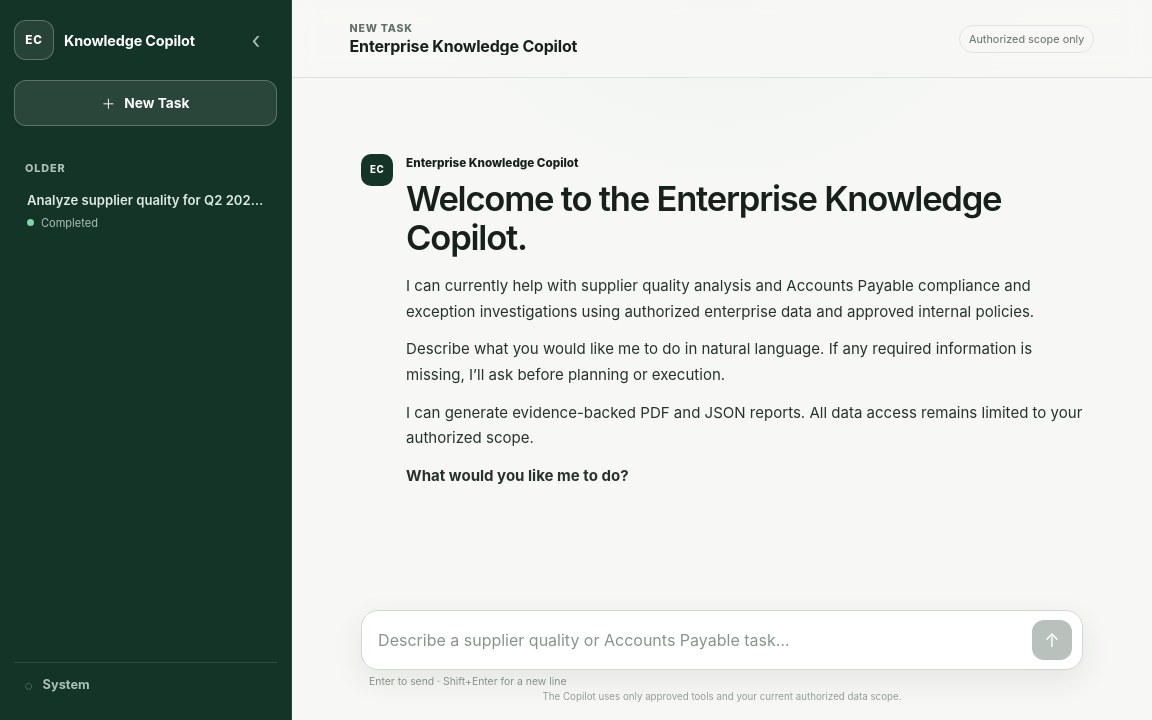
Test: Chat-first Task Workspace › submits only natural-language task text with an Idempotency-Key
The width and height of the screenshot is (1152, 720).
In the text box named "Message the Enterprise Knowledge Copilot": (700, 640) x1=378 y1=621 x2=1022 y2=660, type "Analyze supplier quality issues in Q2 and create a PDF report."
Then press Enter
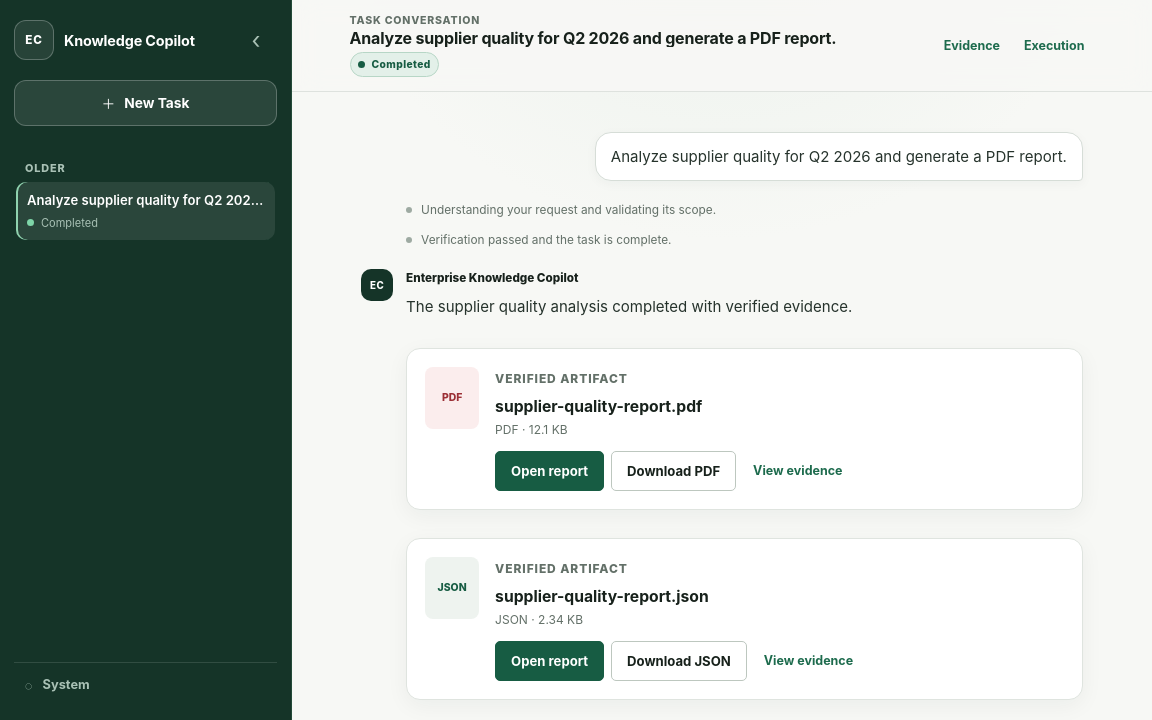
Check: the heading "Analyze supplier quality" is shown, box x1=350 y1=30 x2=836 y2=47
